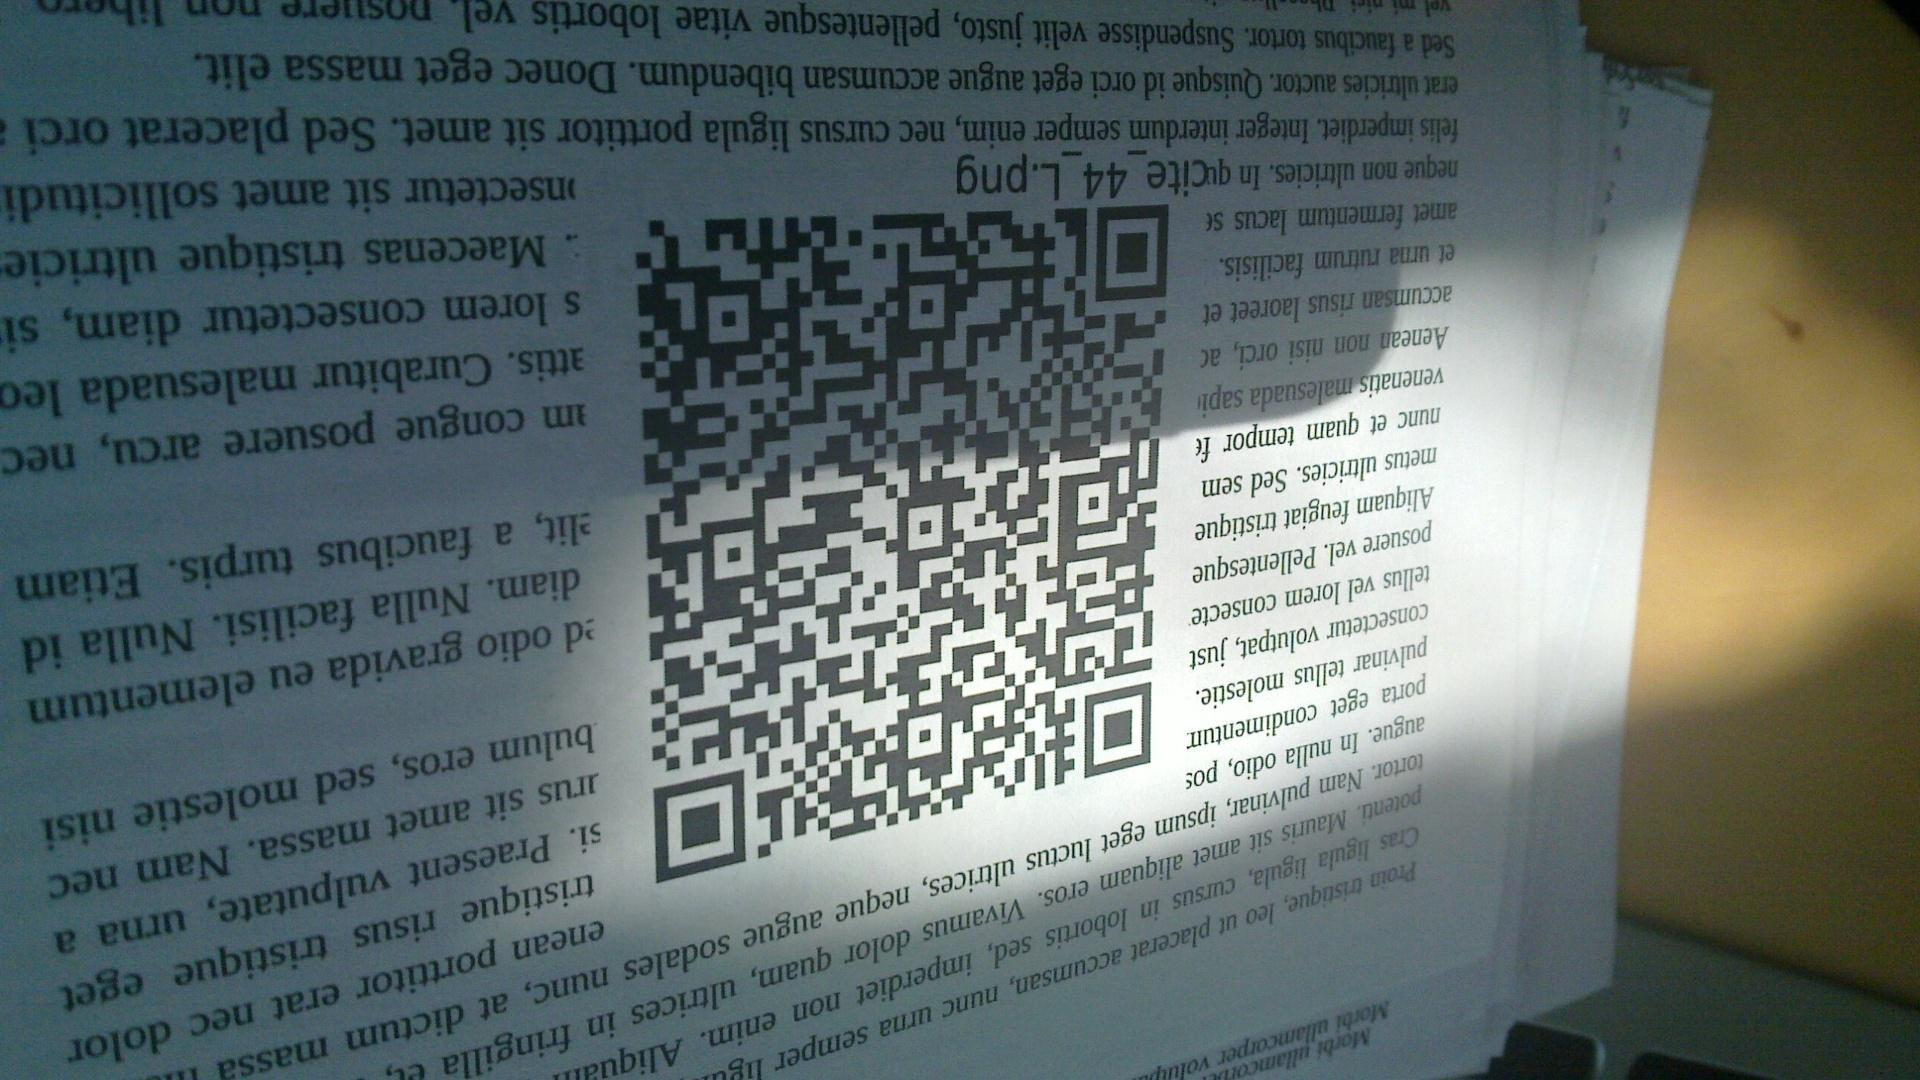Finder pattern: (649, 770, 756, 887), (1085, 191, 1179, 305), (1079, 673, 1155, 774)
